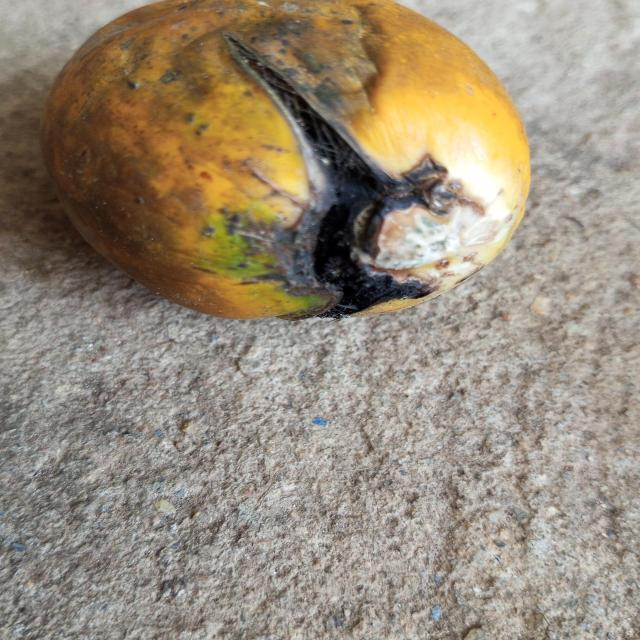damaged: (43, 0, 530, 319)
